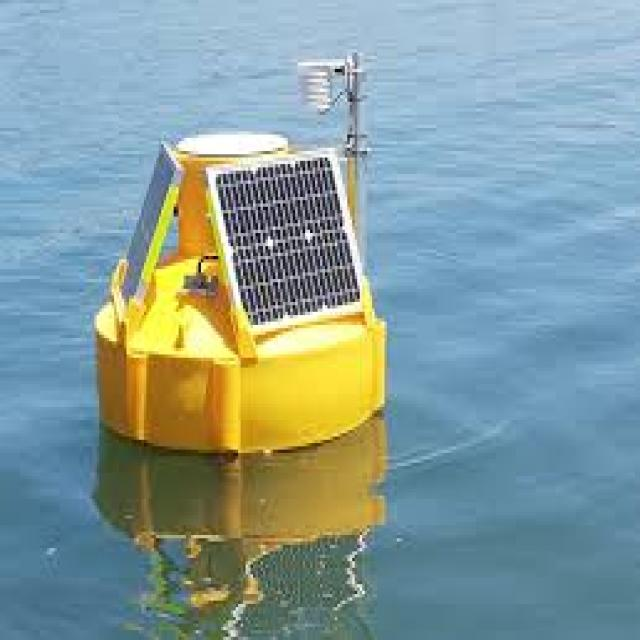buoy: (85, 17, 403, 469)
